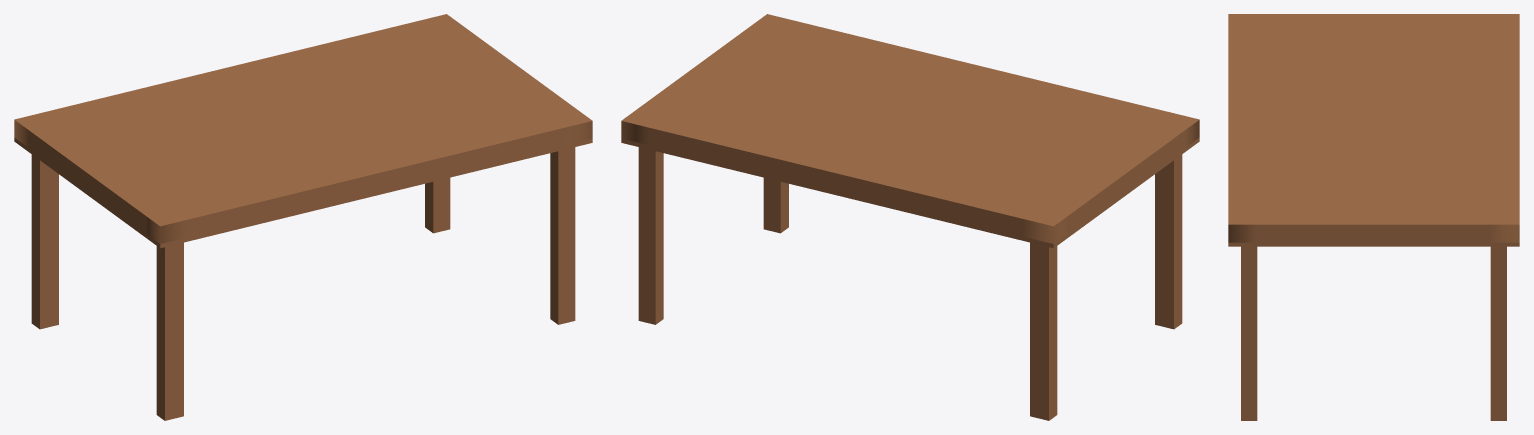
Rendered from Table.FBX.
3 views of the same model, side by side, from view 1: azimuth 30°, elevation 25°; view 2: azimuth 150°, elevation 25°; view 3: azimuth 270°, elevation 25° (orthographic).
Parts seen in each view (by area): view 1: Mesa; view 2: Mesa; view 3: Mesa.
Part boxes in pixels (bbox=[...]): Mesa: bbox=[14, 14, 592, 420]; Mesa: bbox=[621, 14, 1199, 420]; Mesa: bbox=[1228, 14, 1519, 420].
Bounding box in the file's own units: 217 × 96.9 × 127.
